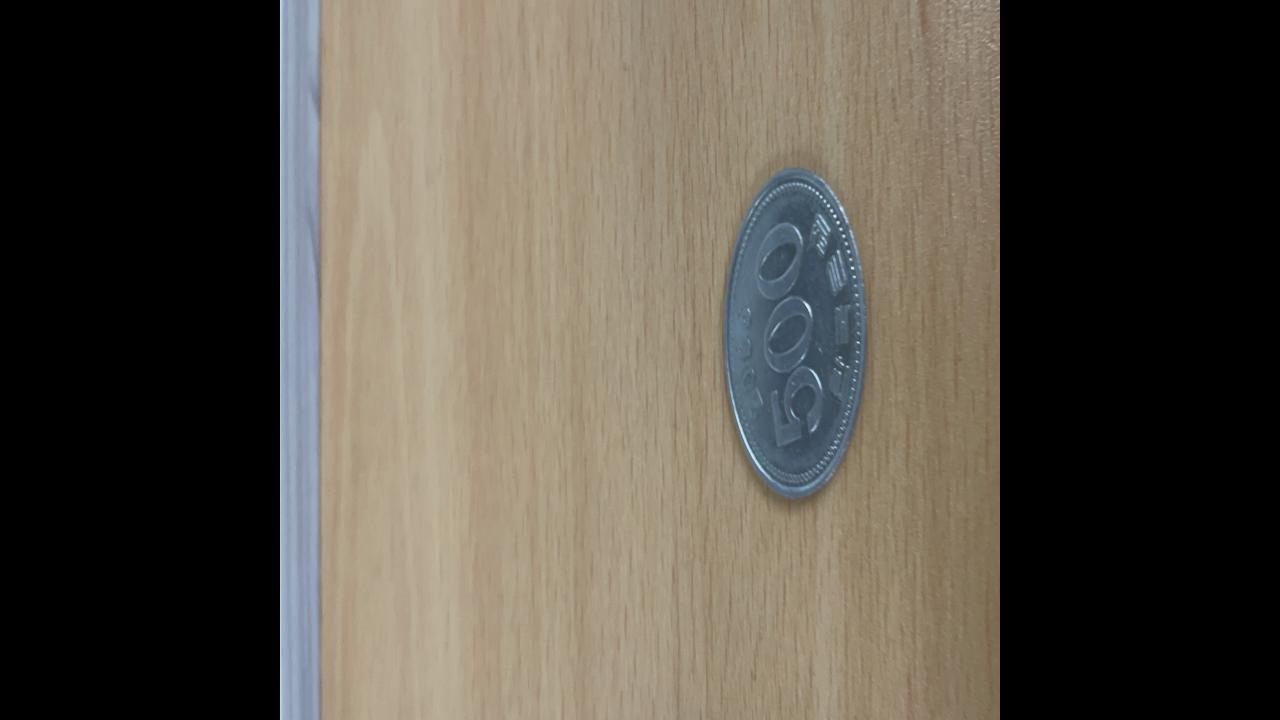coin: (722, 166, 866, 502)
